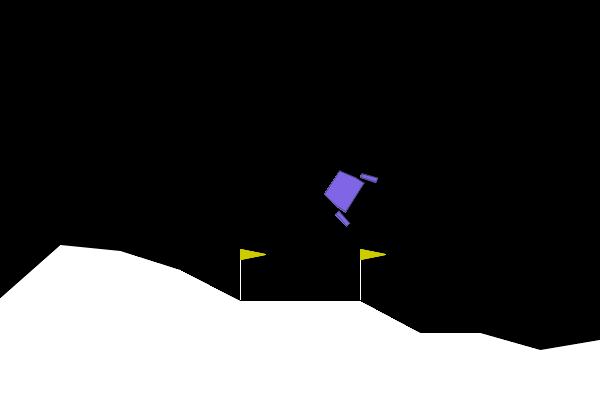lander: (314, 157, 380, 229)
